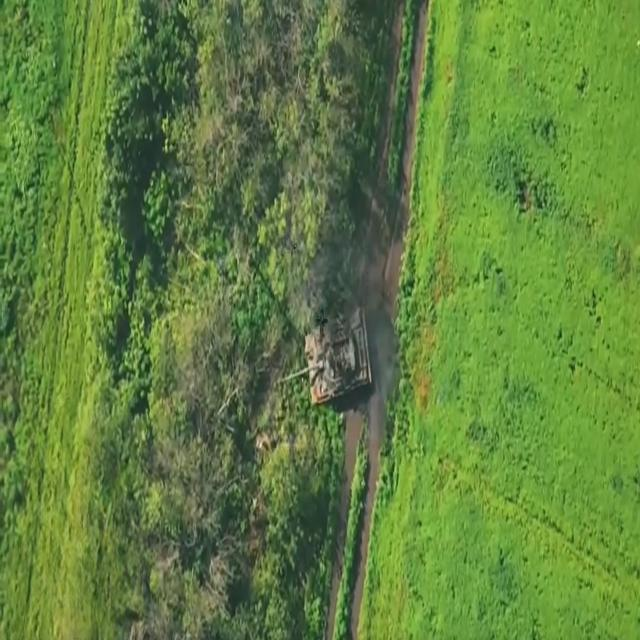MBT: (272, 305, 376, 412)
